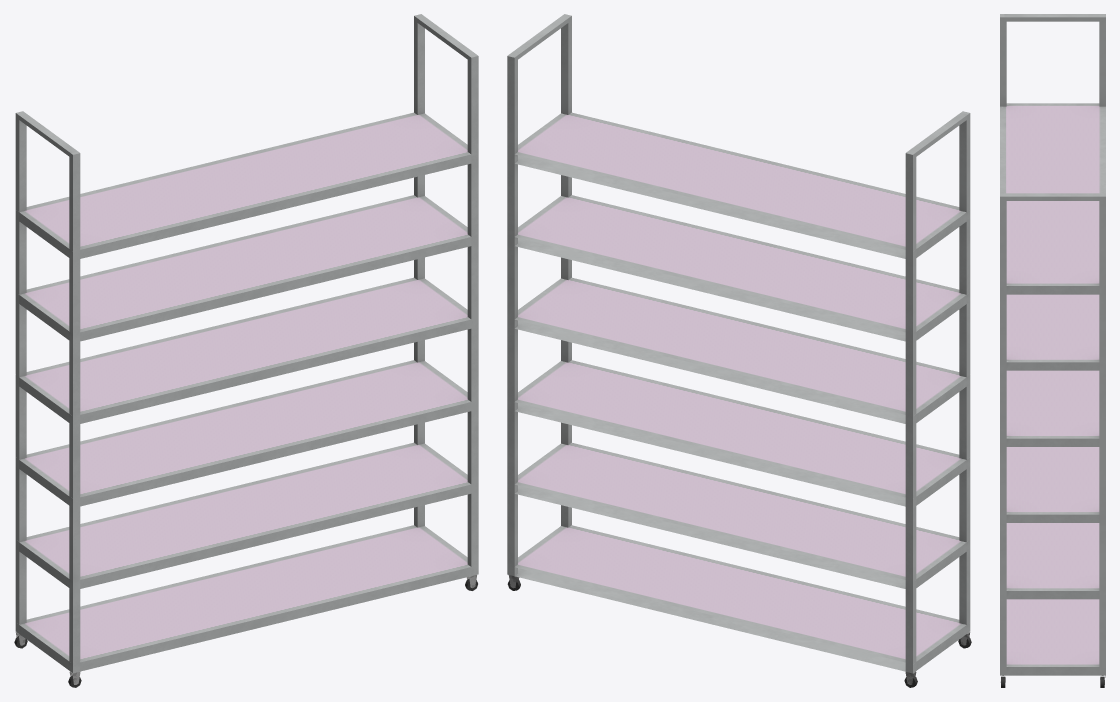
The model's file is tieyun03.FBX.
3 renders of one model, left to right at view 1: azimuth 30°, elevation 25°; view 2: azimuth 150°, elevation 25°; view 3: azimuth 270°, elevation 25°, orthographic. The views are drawn at different scales.
Parts seen in each view (by area): view 1: Box004; view 2: Box004; view 3: Box004.
Boxes of the visible parts, box(x1,y1,x2,y2) form: Box004: box(14, 14, 478, 687); Box004: box(507, 14, 971, 687); Box004: box(1000, 14, 1105, 687).
Bounding box in the file's own units: 158 × 198 × 38.5.
1 material, 1 textured.
